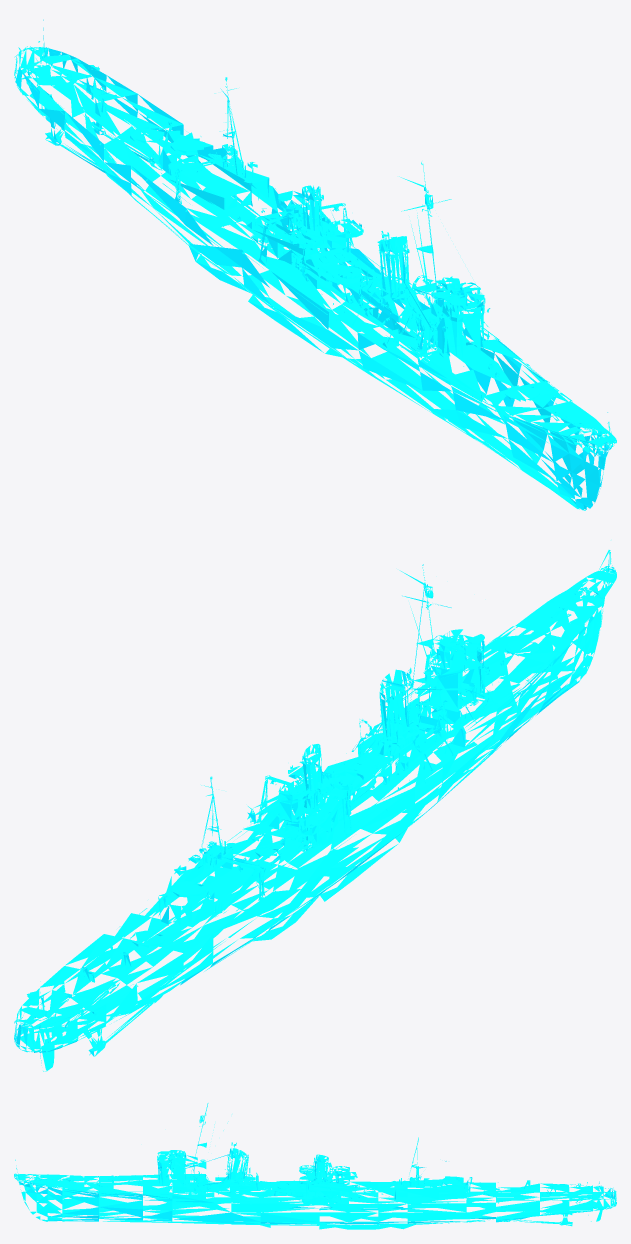
The model's file is Minegumo.glb.
3 views of the same model, one above another, from view 1: azimuth 30°, elevation 25°; view 2: azimuth 150°, elevation 25°; view 3: azimuth 270°, elevation 25° (orthographic). The views are drawn at different scales.
Bounding box in the file's own units: 0.7178 × 1.75 × 7.86.
